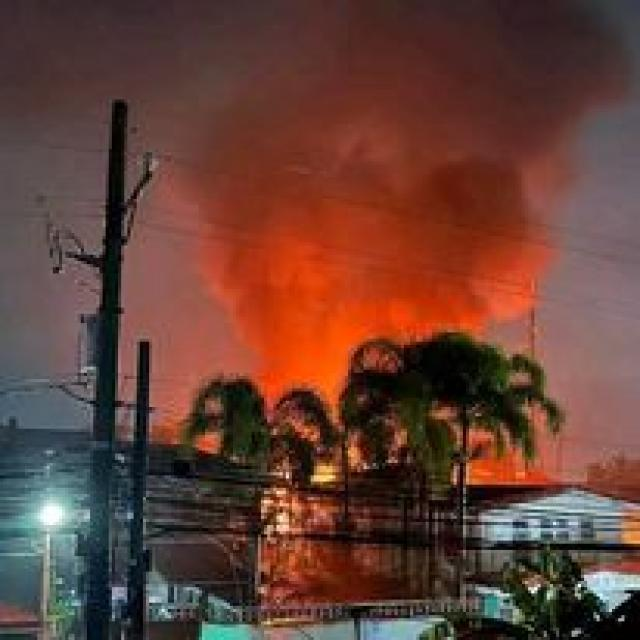Smoke: (195, 133, 533, 357), (260, 2, 606, 212)
